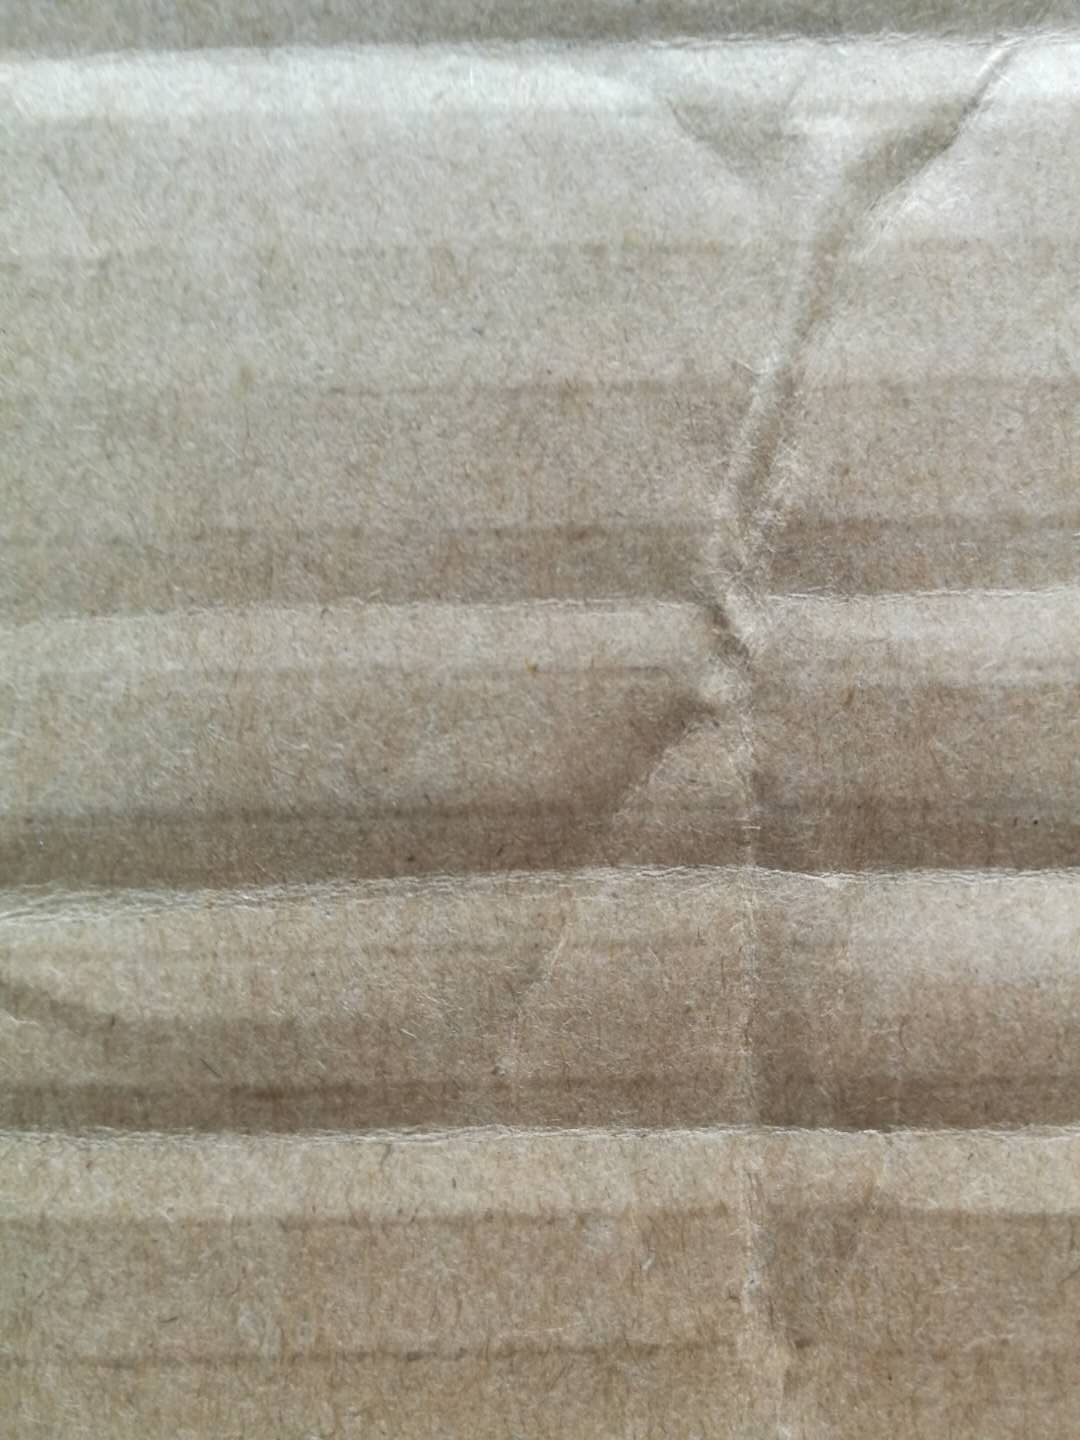defect: (571, 5, 1054, 1440), (1, 981, 1080, 1293), (5, 1, 1080, 221), (1, 481, 1080, 674), (2, 764, 1080, 955)
